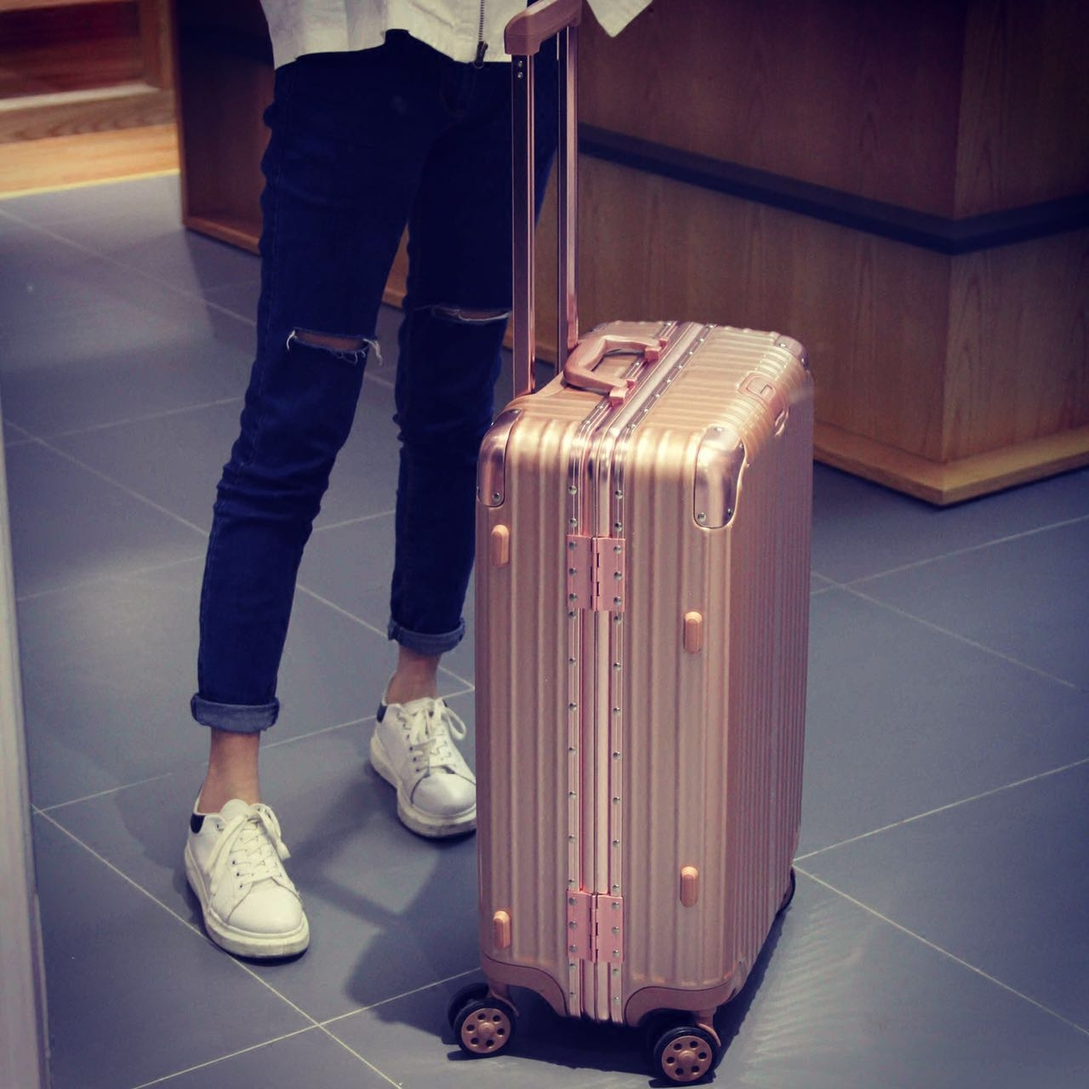box: (472, 321, 811, 1002)
handle: (562, 332, 670, 402)
wheel: (446, 983, 520, 1058), (652, 1023, 722, 1087)
